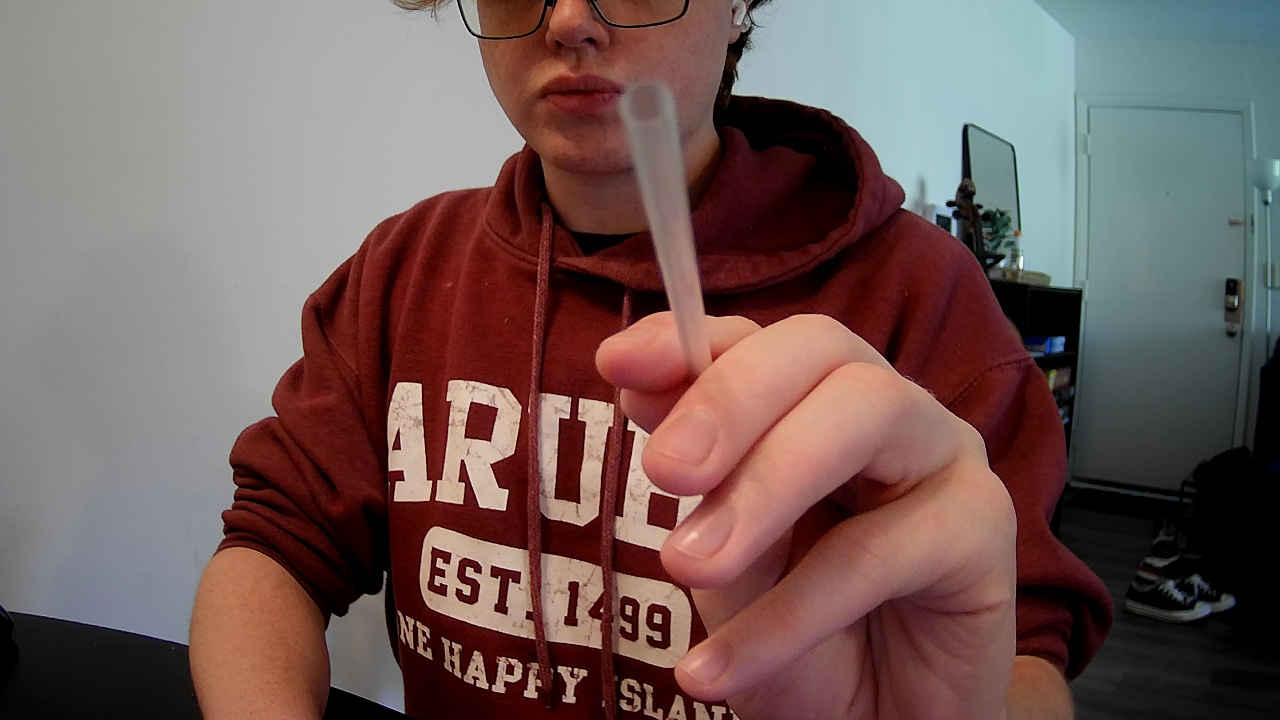trash: (596, 73, 764, 392)
